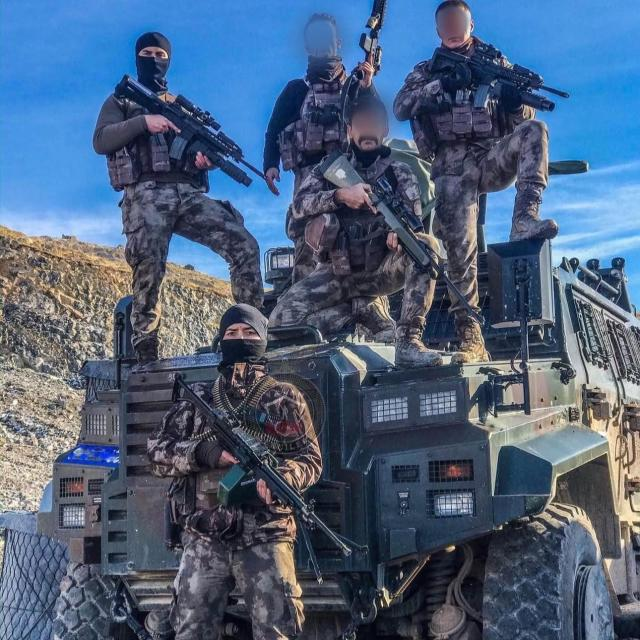poh_personel: (94, 33, 274, 368), (150, 303, 322, 640), (393, 0, 550, 357), (275, 96, 445, 368)
